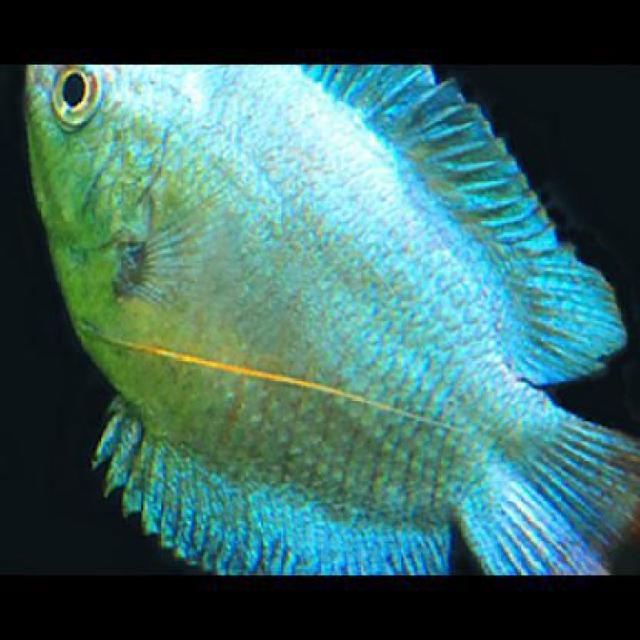Gourami: (21, 63, 638, 575)
